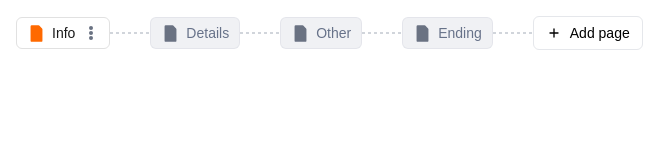
PageNavigationContainer › Interaction with Existing Features › should not interfere with tab selection
Click the tab "Details": x=195, y=33 [150,17,240,49]
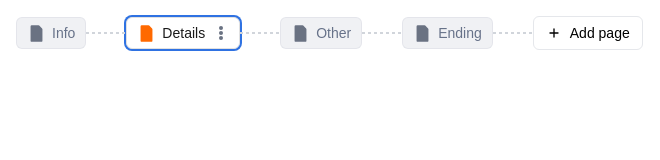
Now the tab "Details" has class "bg-white" "text-[#1A1A1A]", box [126,17,240,49]
Hover over the 4th element with class "items-center": x=106, y=33 [86,32,126,34]
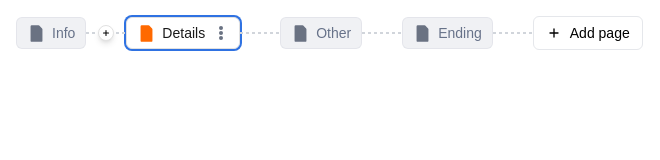
Now the button named "Add page after position 0" is shown, box [98,25,114,41]
